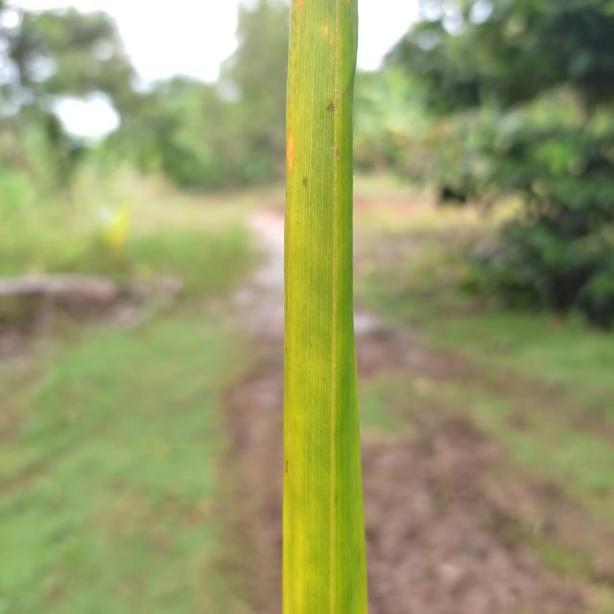nitrogen: (281, 0, 384, 614)
